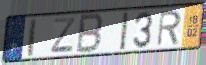3: (132, 10, 154, 49)
B: (75, 13, 105, 56)
I: (118, 11, 130, 52), (27, 17, 38, 58)
R: (156, 9, 183, 48)
Z: (49, 16, 77, 54)
